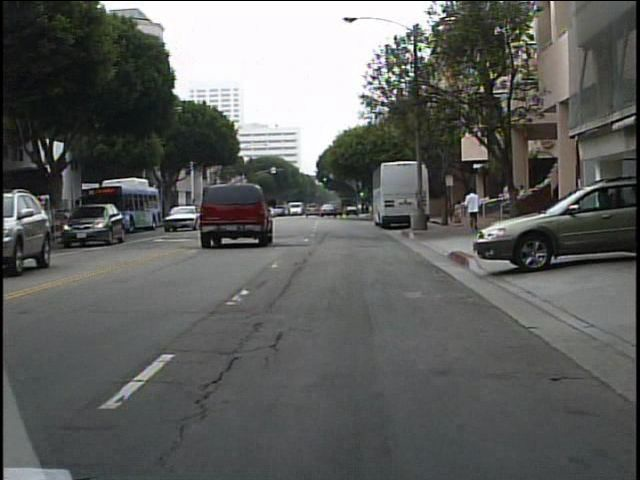person: (463, 184, 485, 236), (454, 198, 466, 225)
